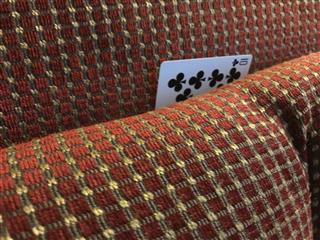TenOfClubs: (154, 53, 252, 108)
